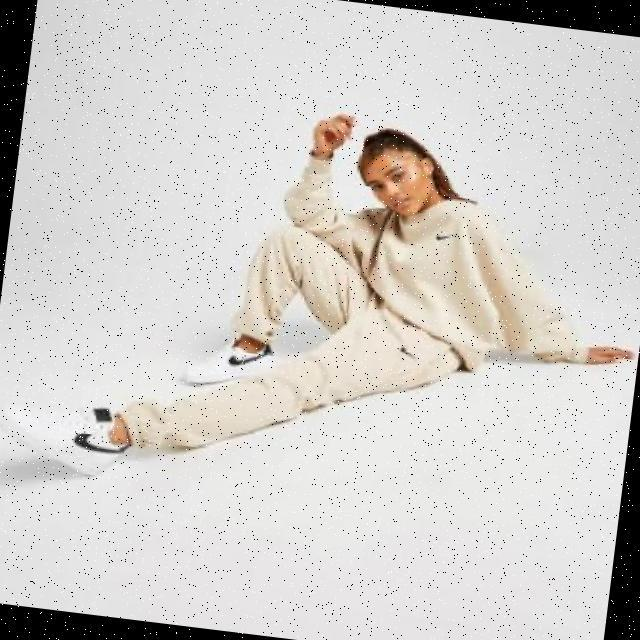Nike: (71, 428, 121, 454), (225, 350, 262, 367), (395, 343, 414, 359), (433, 231, 452, 241)
